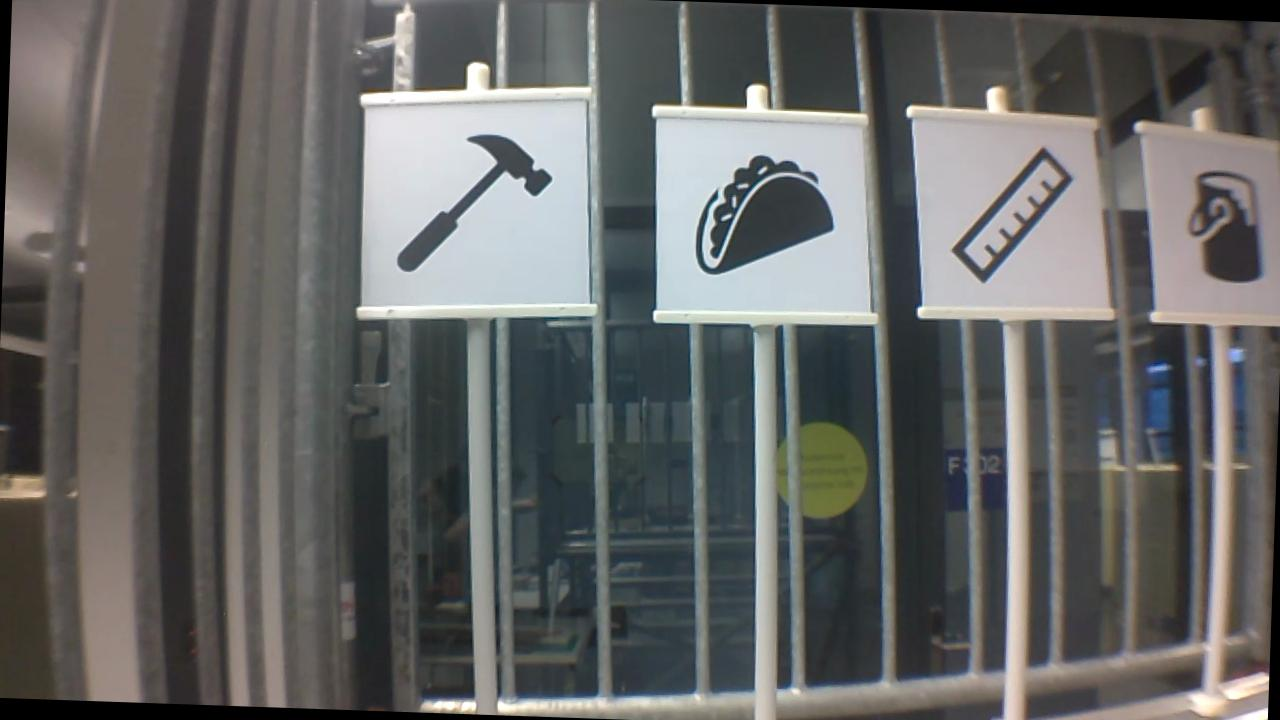bucket: (1179, 163, 1272, 288)
hammer: (388, 126, 559, 283)
ruler: (941, 138, 1082, 294)
taco: (687, 144, 842, 283)
